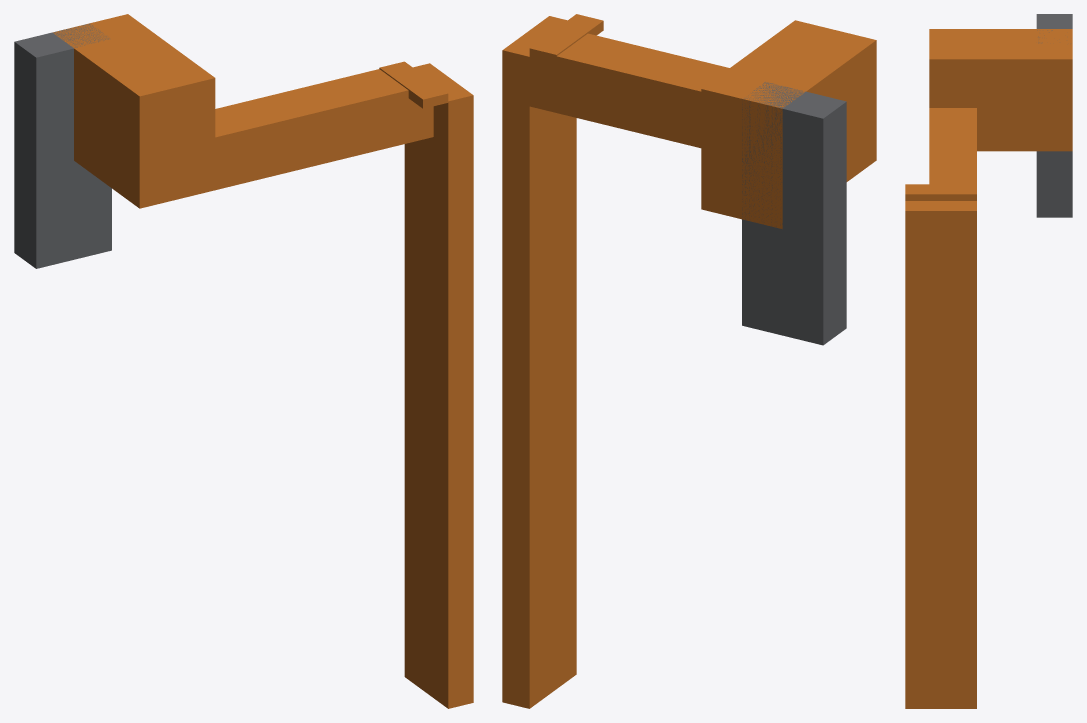
Rendered from finger_upper_body.obj.
3 views of the same model, side by side, from view 1: azimuth 30°, elevation 25°; view 2: azimuth 150°, elevation 25°; view 3: azimuth 270°, elevation 25° (orthographic). The views are drawn at different scales.
Bounding box in the file's own units: 0.0283 × 0.051 × 0.014.
